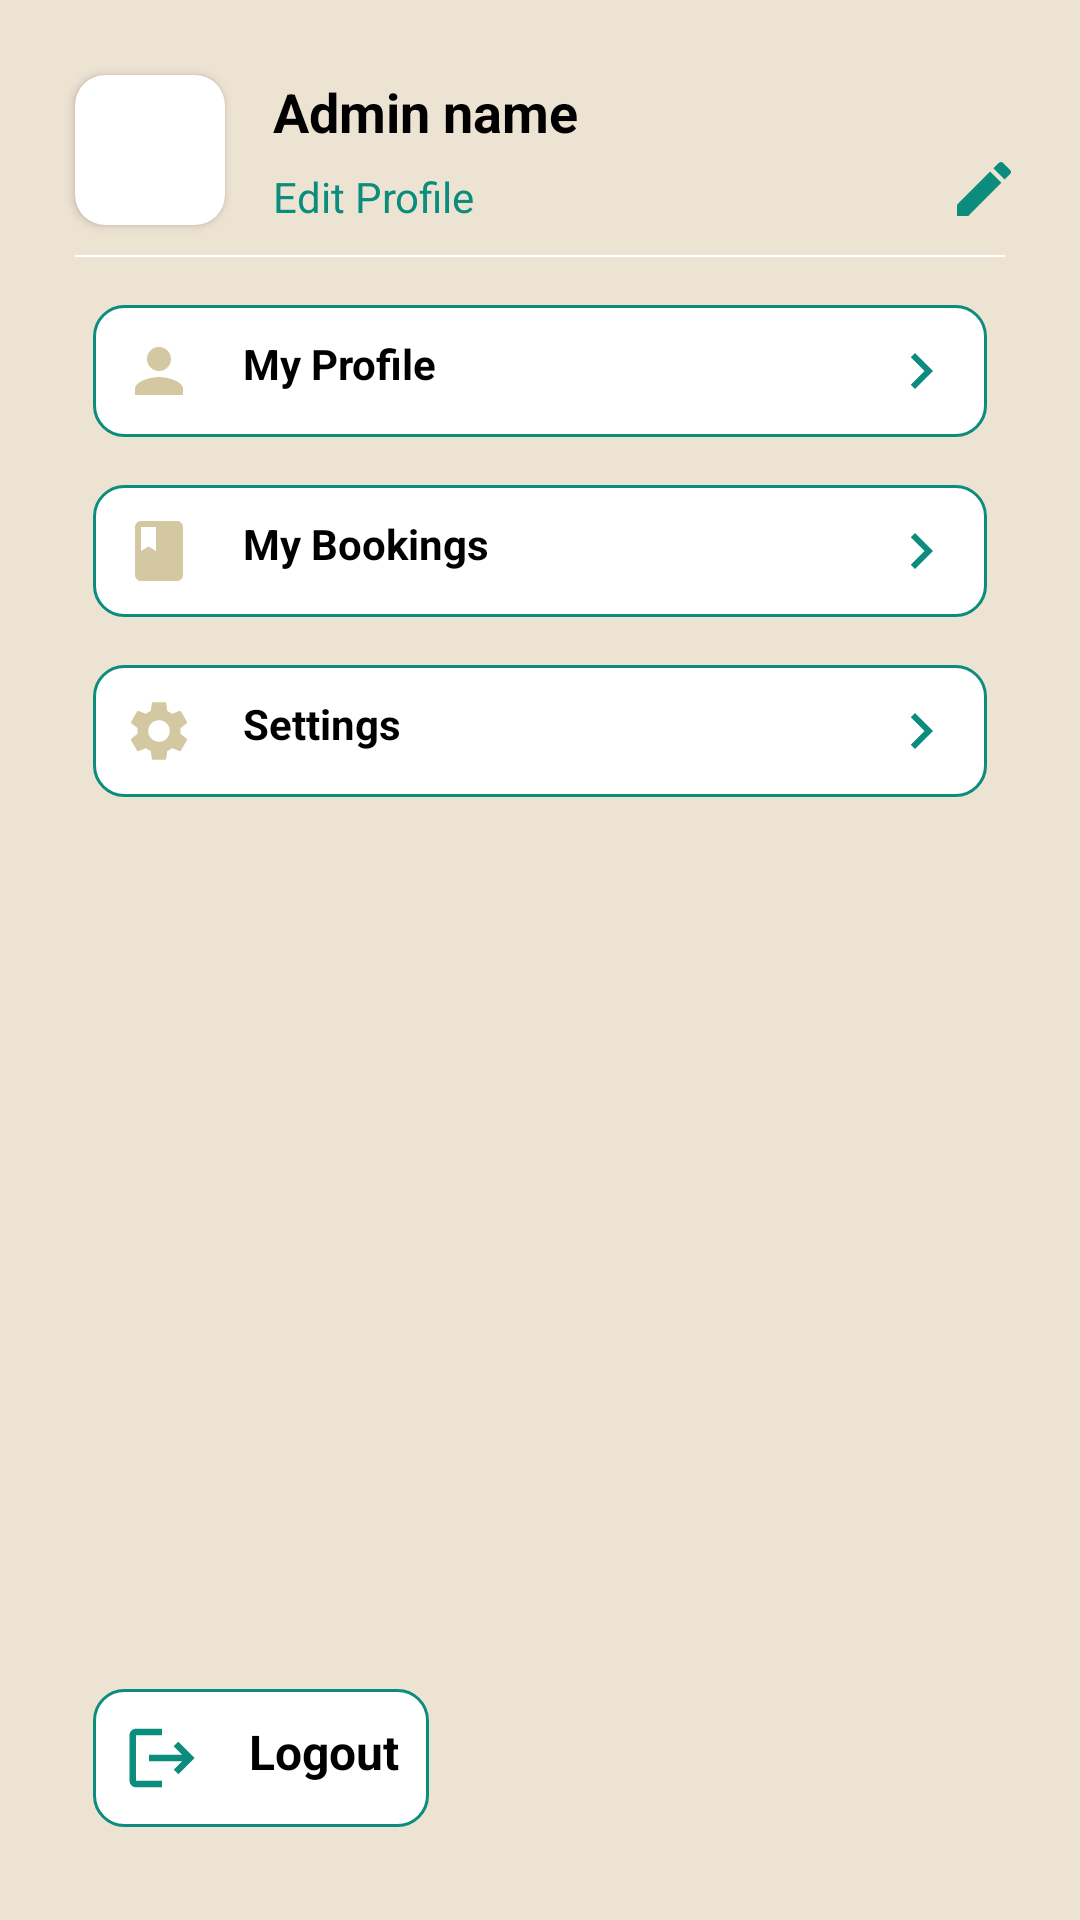

Where to tap for icons on this 1080w x 1920h app screen, as (x=x, y=y):
mode edit: (x=984, y=189)
